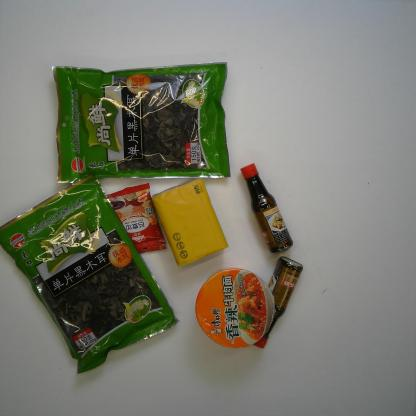Dried Food: (0, 174, 180, 376), (51, 60, 232, 184)
Instant Drink: (106, 182, 167, 254)
Instant Noodles: (195, 267, 276, 349)
Seasoner: (239, 162, 294, 256), (252, 256, 303, 350)
Tissue: (150, 178, 229, 268)
